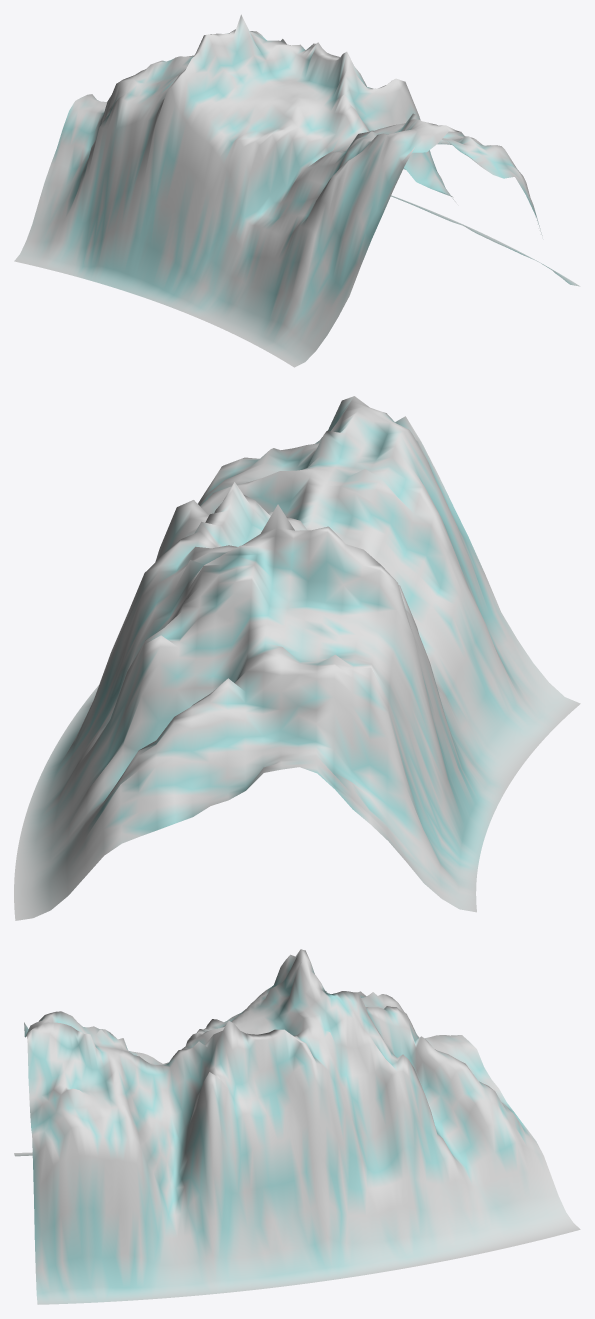
File: far_6.glb
3 renders of one model, top to bottom at view 1: azimuth 30°, elevation 25°; view 2: azimuth 150°, elevation 25°; view 3: azimuth 270°, elevation 25°, orthographic. The views are drawn at different scales.
Parts seen in each view (by area): view 1: Mountain; view 2: Mountain; view 3: Mountain.
Boxes of the visible parts, x1,y1,x2,y2 form: Mountain: (14, 14, 580, 367); Mountain: (14, 396, 580, 920); Mountain: (14, 949, 580, 1304).
Size of the model in its own units: 1338 by 736 by 1575.
